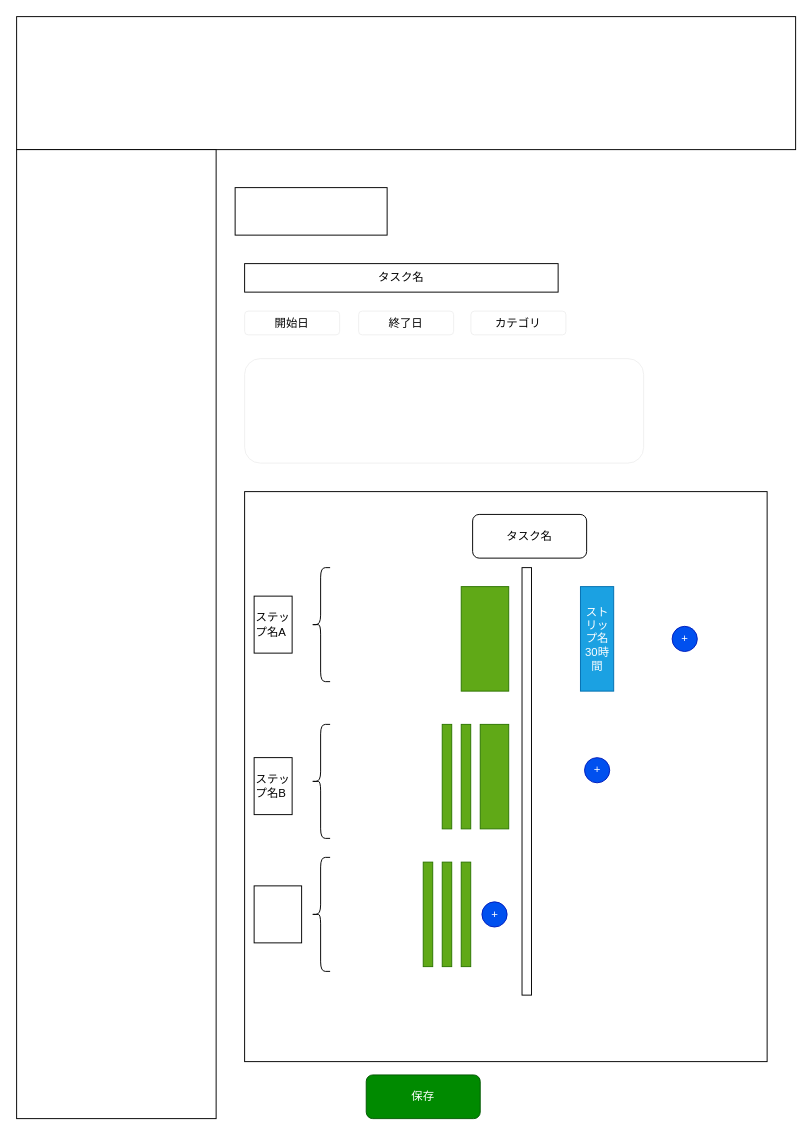
This 812x1135 diagram has some shape labels left out. Here are the shapes that lost their labels. From the top down, the box of each, then its label:
(16, 16, 796, 150): ヘッダー
(234, 187, 387, 235): ページ名
(244, 358, 644, 463): タスク説明
(16, 149, 216, 1119): サイドバー
(460, 586, 509, 691): ストリップ名 50時間
(253, 885, 302, 943): ステップ名未入力
